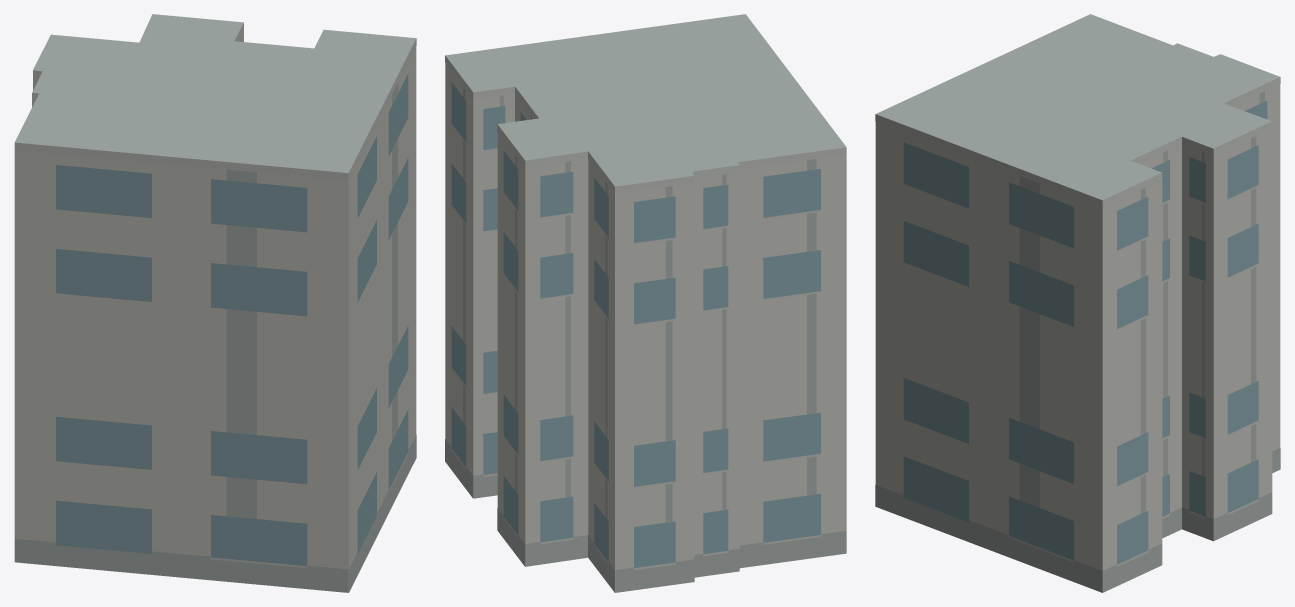
File: survey-upis-32528814.glb
3 renders of one model, left to right at view 1: azimuth 30°, elevation 25°; view 2: azimuth 150°, elevation 25°; view 3: azimuth 270°, elevation 25°, orthographic. The views are drawn at different scales.
Visible parts, largest first — view 1: survey-upis-32528814.tmp; view 2: survey-upis-32528814.tmp; view 3: survey-upis-32528814.tmp.
Part boxes in pixels (x1=…): survey-upis-32528814.tmp: x1=14, y1=14, x2=416, y2=592; survey-upis-32528814.tmp: x1=445, y1=14, x2=846, y2=592; survey-upis-32528814.tmp: x1=875, y1=14, x2=1280, y2=592.
Bounding box in the file's own units: 13.59 × 13.34 × 12.48.
